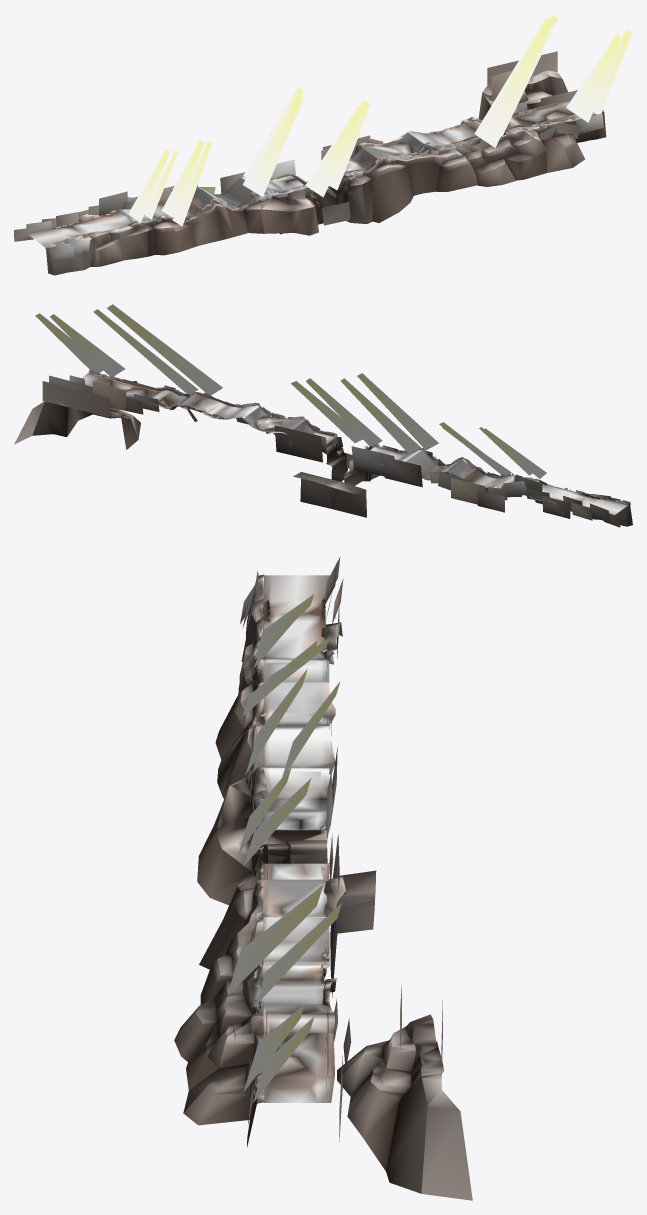
The model's file is Forest_03.fbx.
3 views of the same model, one above another, from view 1: azimuth 30°, elevation 25°; view 2: azimuth 150°, elevation 25°; view 3: azimuth 270°, elevation 25° (orthographic). The views are drawn at different scales.
Parts seen in each view (by area): view 1: Mountain_01, Light_01, Tree_01, Ground_01; view 2: Tree_01, Light_01, Mountain_01, Ground_01, Leak_01; view 3: Mountain_01, Ground_01, Light_01, Tree_01.
Part boxes in pixels (bbox=[...]): Mountain_01: bbox=[44, 70, 606, 275]; Light_01: bbox=[128, 14, 632, 226]; Tree_01: bbox=[14, 51, 603, 261]; Ground_01: bbox=[27, 100, 574, 245]; Tree_01: bbox=[42, 369, 630, 527]; Light_01: bbox=[35, 304, 546, 478]; Mountain_01: bbox=[14, 372, 632, 526]; Ground_01: bbox=[82, 373, 627, 515]; Leak_01: bbox=[115, 378, 334, 436]; Mountain_01: bbox=[174, 574, 472, 1200]; Ground_01: bbox=[254, 575, 335, 1102]; Light_01: bbox=[227, 594, 341, 1102]; Tree_01: bbox=[233, 557, 442, 1141].
Bounding box in the file's own units: 30389 × 7350 × 6637.
